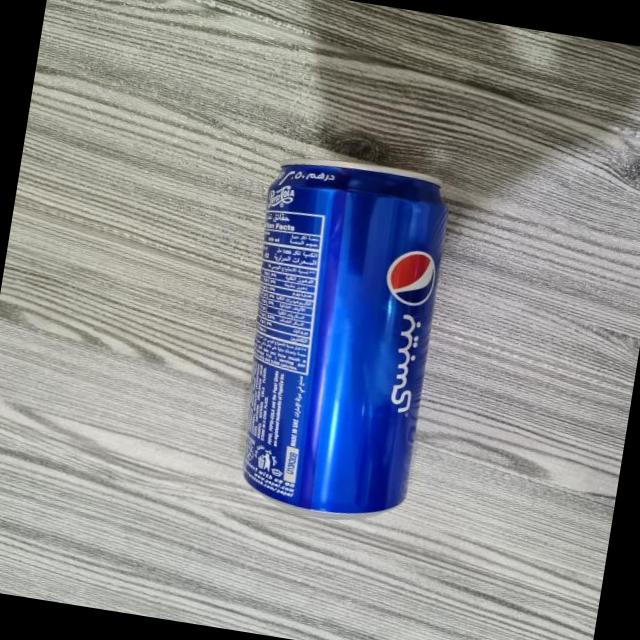Kaleng: (218, 151, 458, 528)
